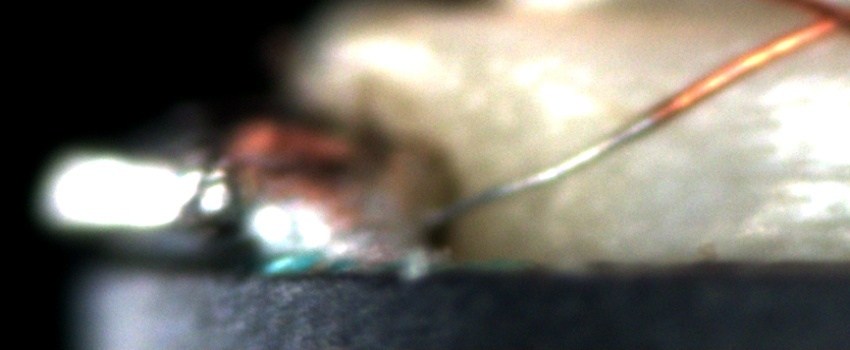DL: (705, 160, 850, 204)
TS: (429, 117, 654, 230)
TTCW: (422, 82, 680, 231)
